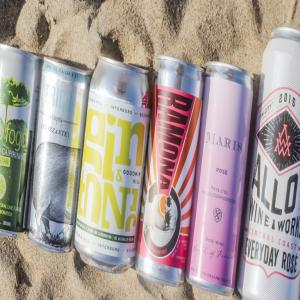Can: (186, 61, 257, 298), (135, 52, 206, 287), (74, 54, 150, 273), (246, 26, 300, 300), (29, 49, 95, 259), (1, 42, 43, 243)
